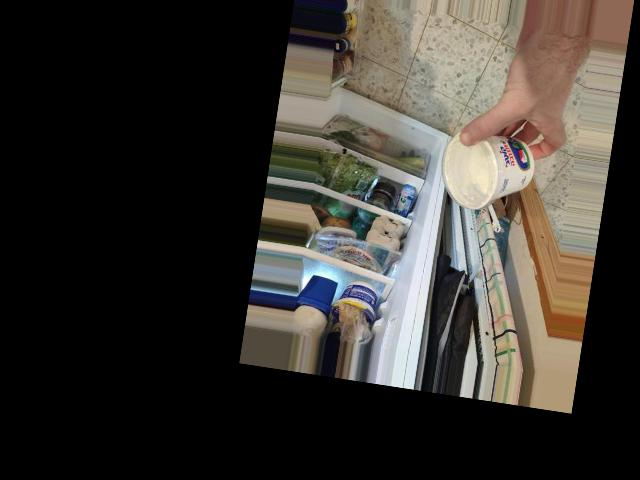cotage: (444, 123, 539, 212)
